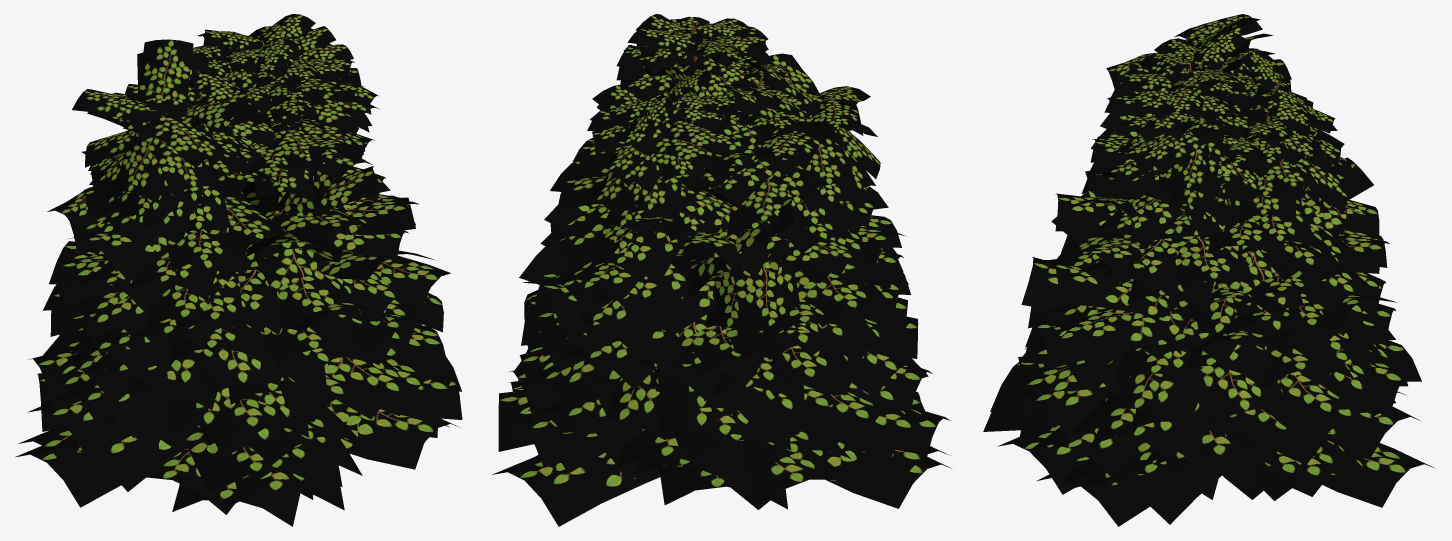
The model's file is Bush1.fbx.
The picture shows the model from 3 angles, left to right: view 1: azimuth 30°, elevation 25°; view 2: azimuth 150°, elevation 25°; view 3: azimuth 270°, elevation 25°; orthographic projection. The views are drawn at different scales.
Visible parts, largest first — view 1: Bush1_LOD0; view 2: Bush1_LOD0; view 3: Bush1_LOD0.
Part boxes in pixels (x1,y1,x2,y2): Bush1_LOD0: [15, 14, 462, 526]; Bush1_LOD0: [492, 14, 951, 526]; Bush1_LOD0: [983, 14, 1434, 526].
Size of the model in its own units: 440 by 445 by 437.
Materials: 2 (2 with a texture image).
